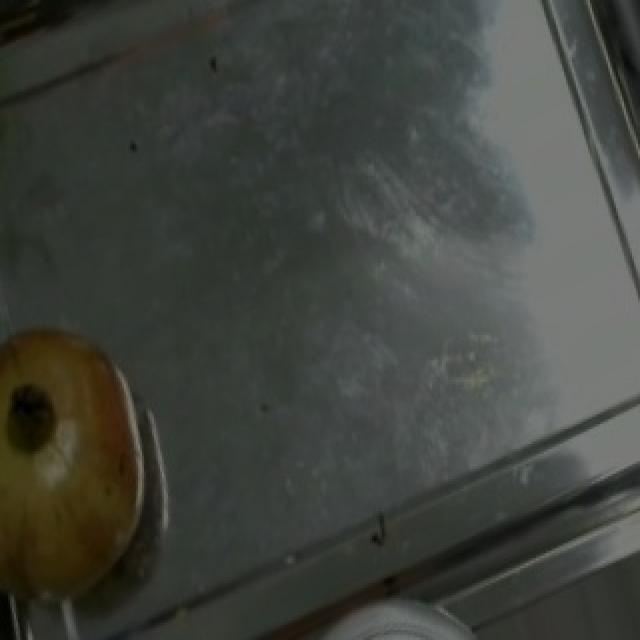fruit: (0, 292, 176, 566)
